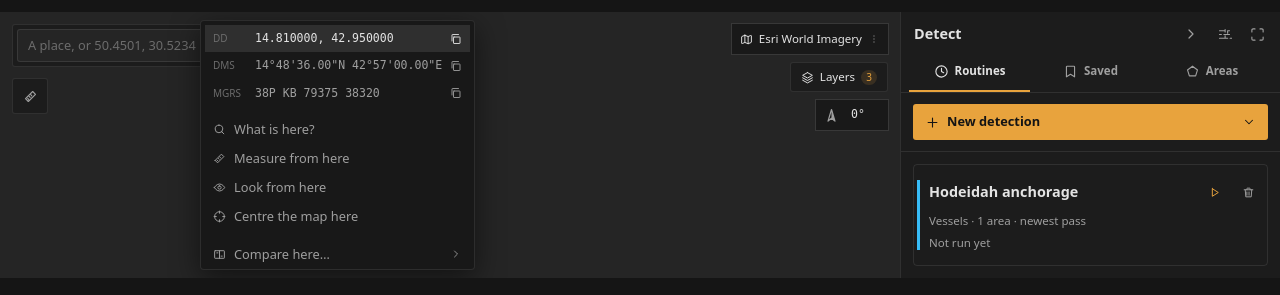
it: Detect › opens a menu on a right-click, with the acts Detect can honour
Expected: the menu named "This point" is shown, top-left (200, 20), bottom-right (475, 270)
Expected: the menu named "This point" shows "DD", top-left (205, 25), bottom-right (470, 52)
Click the menu item "Centre the map here" at (338, 217), box top-left (205, 202), bottom-right (470, 232)
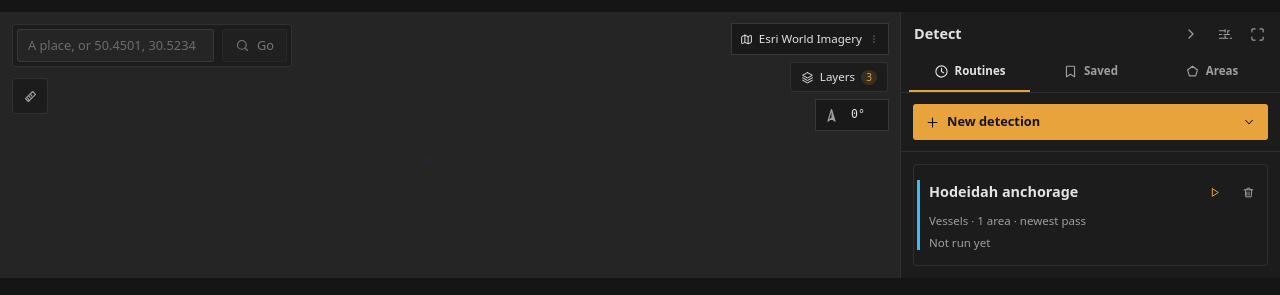
Expected: the menu item is gone
